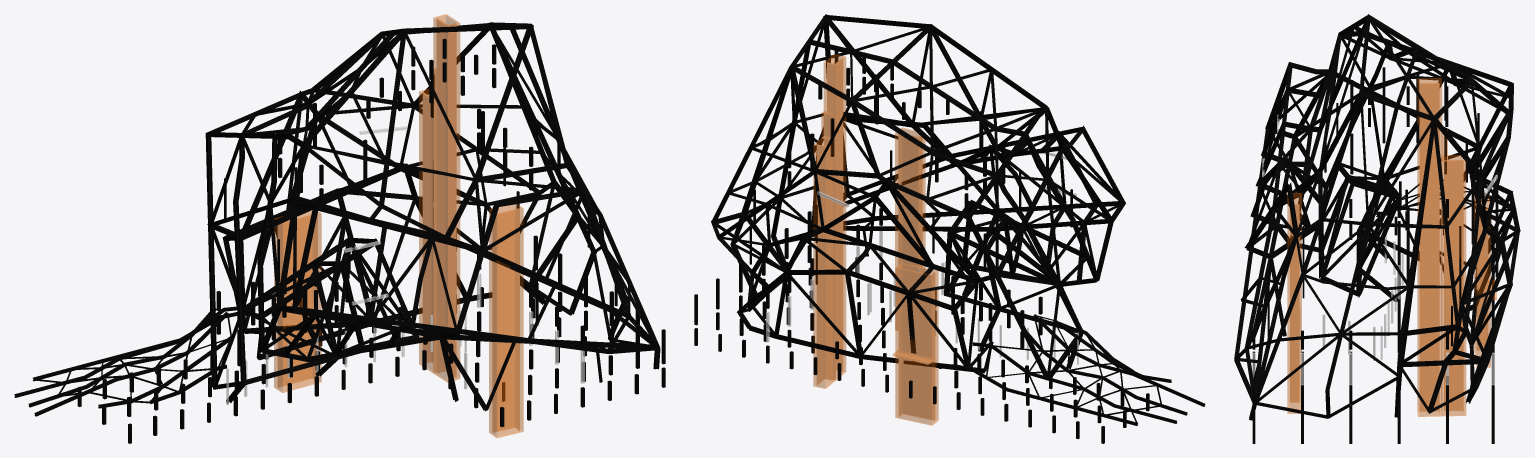
Rendered from 260303_3dmod_exploded-structure.glb.
3 views of the same model, side by side, from view 1: azimuth 30°, elevation 25°; view 2: azimuth 150°, elevation 25°; view 3: azimuth 270°, elevation 25° (orthographic). The views are drawn at different scales.
Parts seen in each view (by area): view 1: 00_primary-struct.001, 00_RC-core, 00_primary-struct, 00_secondary-struct.001, 00_secondary-struct, 00_RC-pillars, 00_primary-struct.002, 00_HEA600_pillars, 00_secondary-struct.002, 00_HEA400_pillars.002, 00_HEA400_pillars.001; view 2: 00_primary-struct, 00_RC-core, 00_primary-struct.001, 00_secondary-struct, 00_secondary-struct.001, 00_RC-pillars, 00_primary-struct.002, 00_HEA600_pillars, 00_secondary-struct.002, 00_HEA400_pillars, 00_HEA400_pillars.001, 00_HEA600_pillars.001; view 3: 00_primary-struct.001, 00_primary-struct, 00_RC-core, 00_secondary-struct.001, 00_secondary-struct, 00_RC-pillars, 00_HEA600_pillars, 00_HEA400_pillars.001, 00_HEA400_pillars.002, 00_HEA400_pillars, 00_HEA600_pillars.001, 00_secondary-struct.002 (+1 smaller).
Part boxes in pixels (x1,y1,x2,y2): 00_primary-struct.001: (257, 23, 660, 411); 00_RC-core: (274, 14, 523, 437); 00_primary-struct: (205, 22, 596, 403); 00_secondary-struct.001: (242, 24, 659, 410); 00_secondary-struct: (210, 24, 609, 385); 00_RC-pillars: (77, 235, 665, 443); 00_primary-struct.002: (14, 306, 250, 416); 00_HEA600_pillars: (216, 38, 507, 349); 00_secondary-struct.002: (33, 309, 231, 403); 00_HEA400_pillars.002: (277, 111, 617, 325); 00_HEA400_pillars.001: (226, 310, 467, 405); 00_primary-struct: (711, 14, 1083, 377); 00_RC-core: (813, 54, 938, 425); 00_primary-struct.001: (771, 14, 1125, 294); 00_secondary-struct: (714, 51, 1060, 376); 00_secondary-struct.001: (747, 17, 1123, 283); 00_RC-pillars: (694, 211, 1149, 443); 00_primary-struct.002: (938, 314, 1205, 425); 00_HEA600_pillars: (766, 51, 1042, 348); 00_secondary-struct.002: (985, 315, 1161, 424); 00_HEA400_pillars: (749, 118, 986, 284); 00_HEA400_pillars.001: (867, 262, 1078, 364); 00_HEA600_pillars.001: (766, 231, 882, 342); 00_primary-struct.001: (1234, 15, 1419, 420); 00_primary-struct: (1336, 14, 1520, 417); 00_RC-core: (1287, 78, 1496, 416); 00_secondary-struct.001: (1235, 17, 1407, 418); 00_secondary-struct: (1302, 52, 1518, 418); 00_RC-pillars: (1252, 216, 1494, 443); 00_HEA600_pillars: (1368, 67, 1494, 349); 00_HEA400_pillars.001: (1322, 222, 1403, 360); 00_HEA400_pillars.002: (1267, 80, 1353, 346); 00_HEA400_pillars: (1444, 81, 1479, 346); 00_HEA600_pillars.001: (1252, 352, 1494, 385); 00_secondary-struct.002: (1380, 179, 1498, 249).
Bounding box in the file's own units: 12.21 × 8.31 × 5.92.
